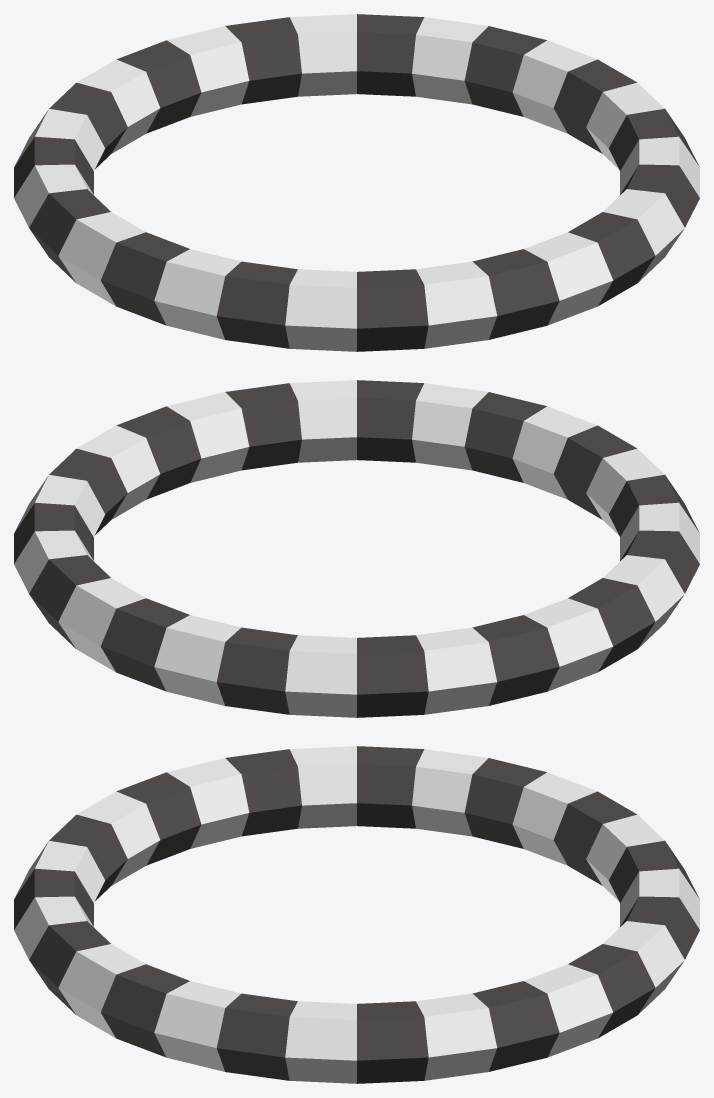
Rendered from Halka.fbx.
The picture shows the model from 3 angles, top to bottom: view 1: azimuth 30°, elevation 25°; view 2: azimuth 150°, elevation 25°; view 3: azimuth 270°, elevation 25°; orthographic projection.
Visible parts, largest first — view 1: Torus.001; view 2: Torus.001; view 3: Torus.001.
Boxes of the visible parts, box(x1,y1,x2,y2) form: Torus.001: box(14, 14, 699, 351); Torus.001: box(14, 380, 699, 717); Torus.001: box(14, 746, 699, 1083).
Size of the model in its own units: 226 by 23.15 by 225.
